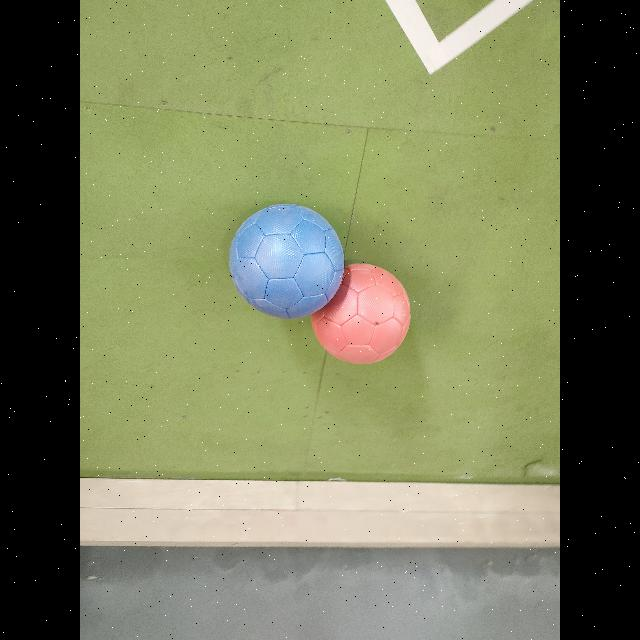B: (230, 203, 344, 319)
R: (311, 264, 410, 364)
